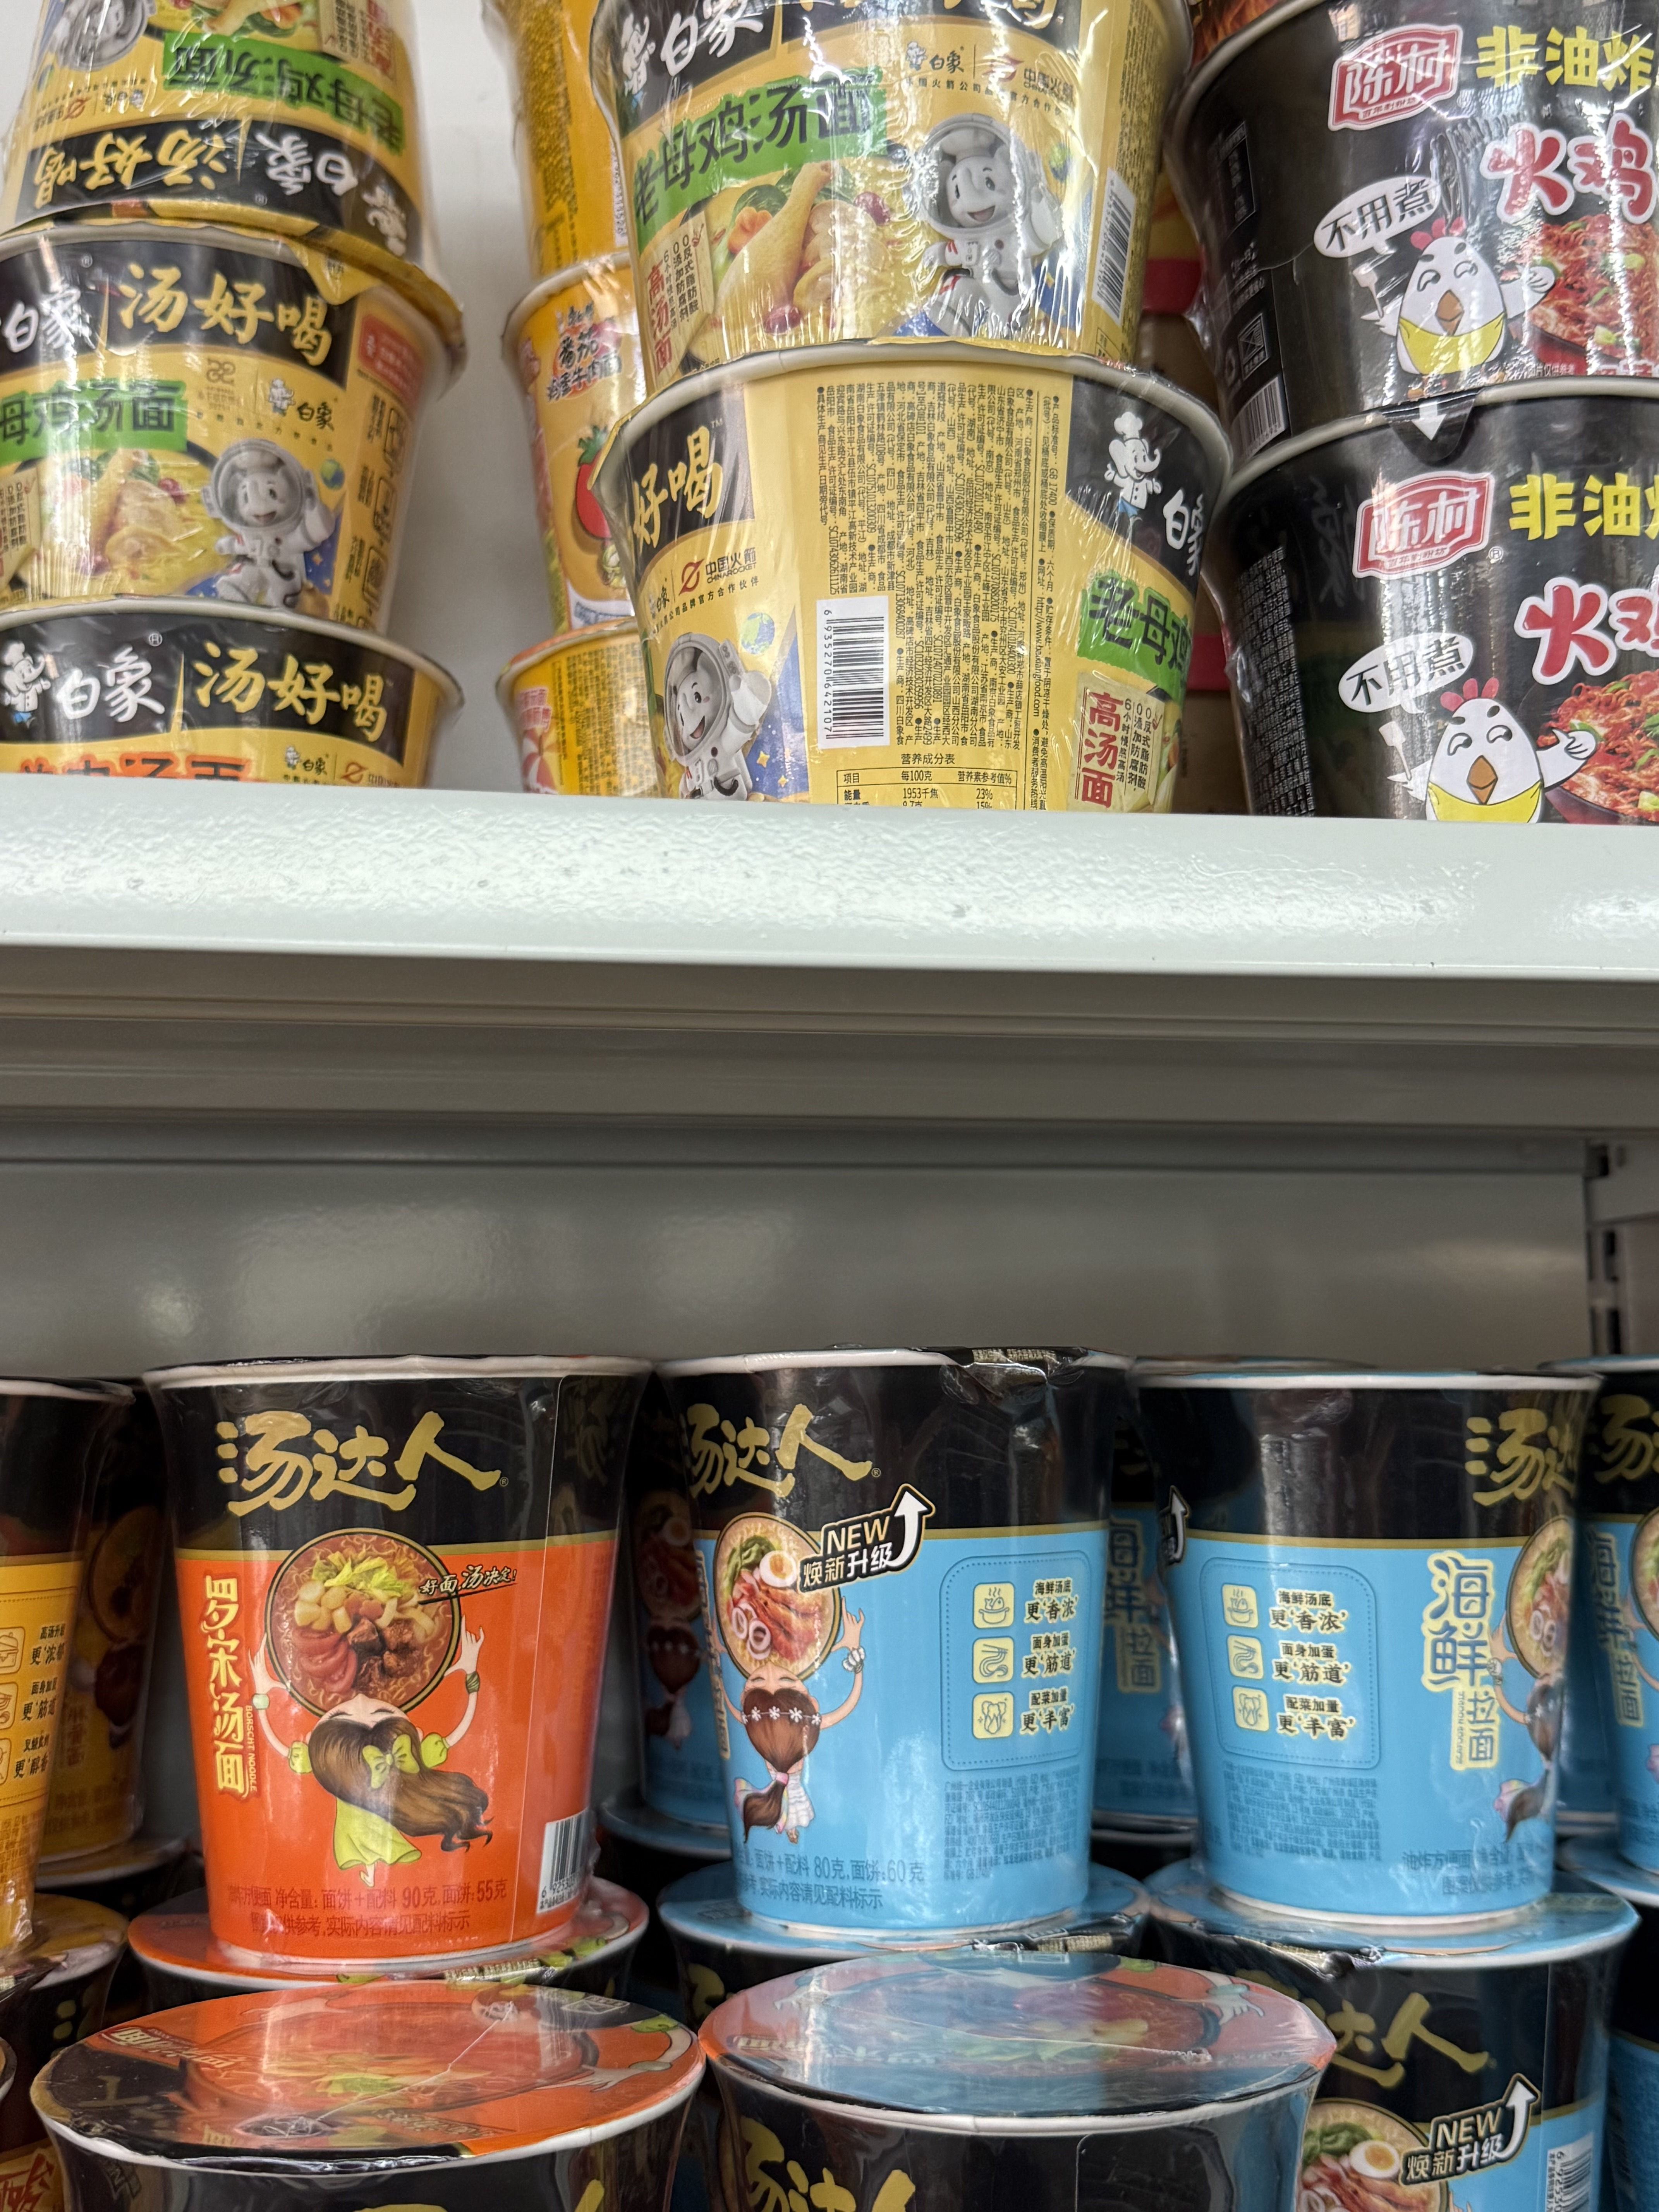bar: (823, 613, 889, 740)
